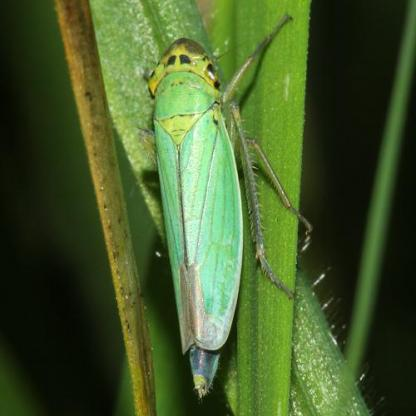Green-Leafhopper: (131, 16, 310, 400)
